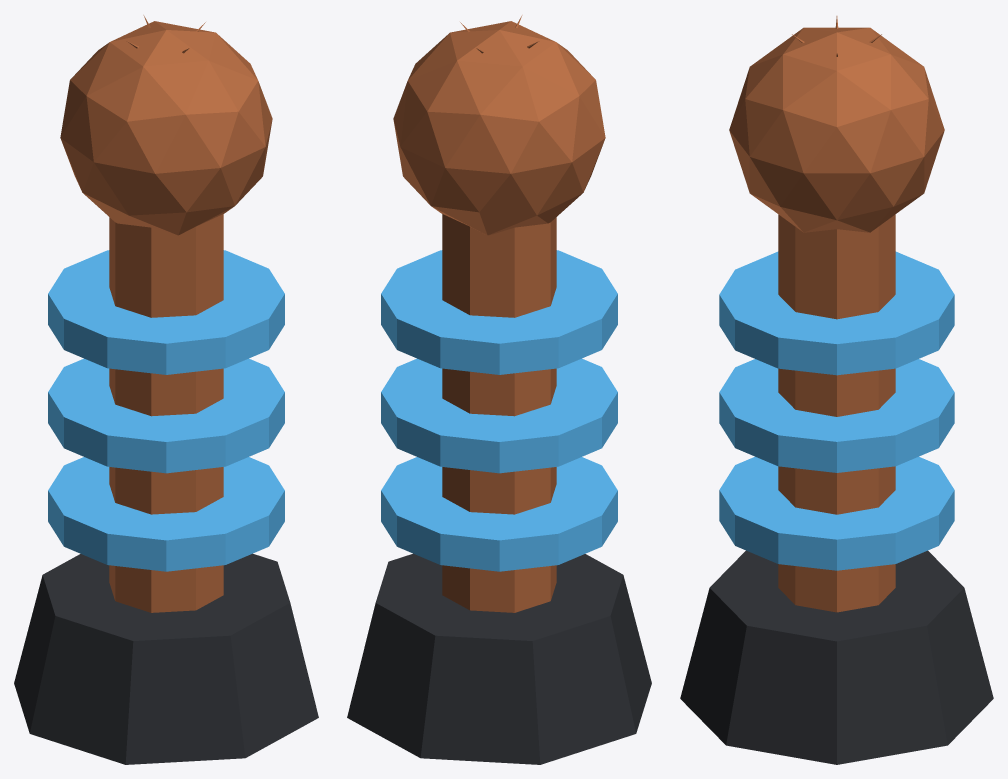
The model's file is TeslaHead.obj.
3 renders of one model, left to right at view 1: azimuth 30°, elevation 25°; view 2: azimuth 150°, elevation 25°; view 3: azimuth 270°, elevation 25°, orthographic.
Parts seen in each view (by area): view 1: TeslaHead; view 2: TeslaHead; view 3: TeslaHead.
Boxes of the visible parts, bbox=[...] form: TeslaHead: bbox=[14, 15, 318, 764]; TeslaHead: bbox=[347, 15, 651, 764]; TeslaHead: bbox=[680, 16, 993, 764].
Size of the model in its own units: 0.64 by 1.5 by 0.64.
